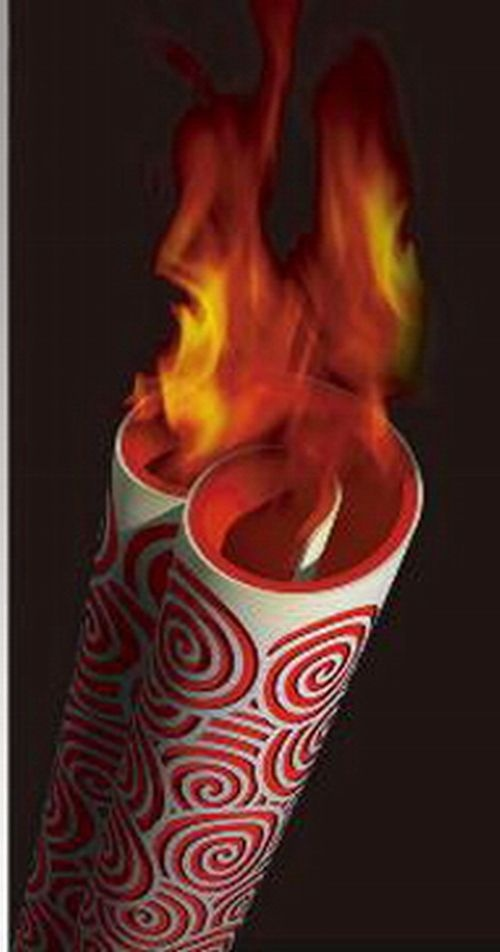fire: (138, 20, 422, 508)
